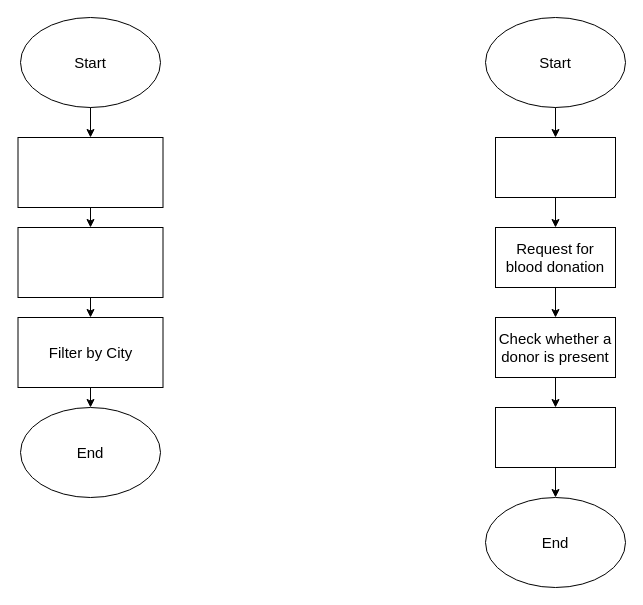
Some shapes in this 643 by 605 pixel diagram are drawn without their labels. Here are the shapes that lost their labels. From the top down, the box of each, then its label:
(17, 136, 163, 208): Choose the City
(494, 136, 616, 198): Enter user details
(17, 226, 163, 298): Choose the hospital
(494, 406, 616, 468): Submit the request
